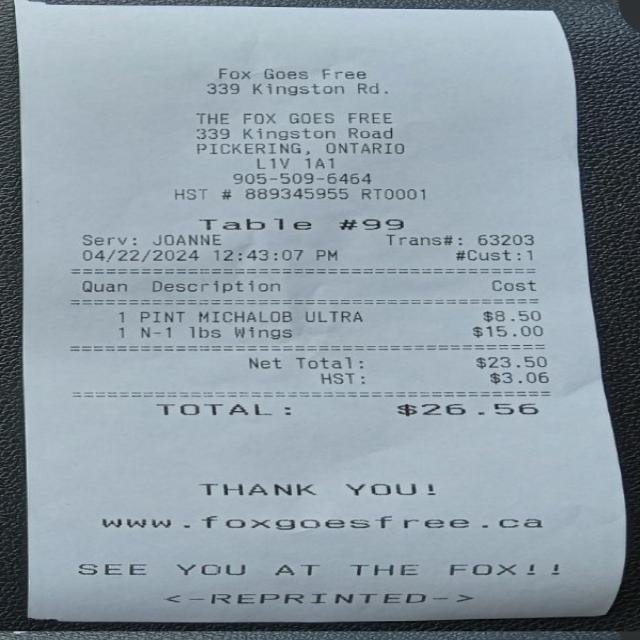item: (131, 322, 551, 345), (131, 305, 550, 325)
store_name: (191, 106, 403, 130)
total_amount: (148, 394, 549, 426)
transaction_date: (75, 244, 207, 270)
